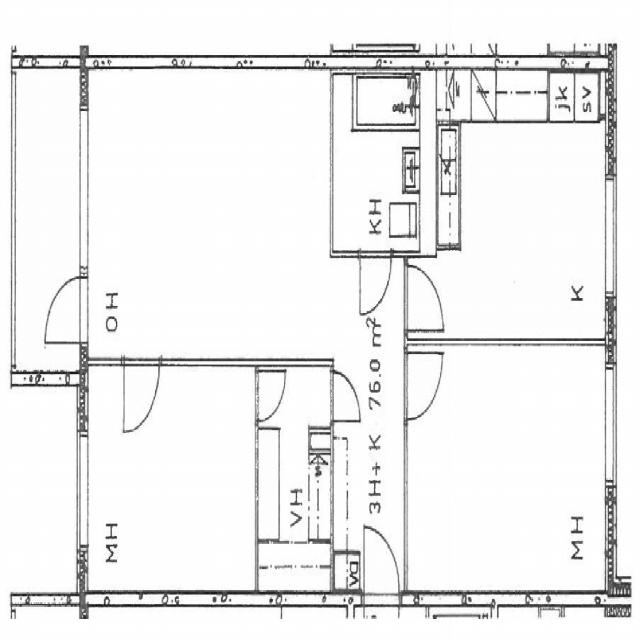door: (364, 525, 399, 605), (46, 277, 88, 342), (404, 352, 443, 419), (124, 359, 159, 431), (404, 265, 442, 330), (360, 251, 391, 315), (331, 371, 360, 421), (256, 372, 284, 421)
